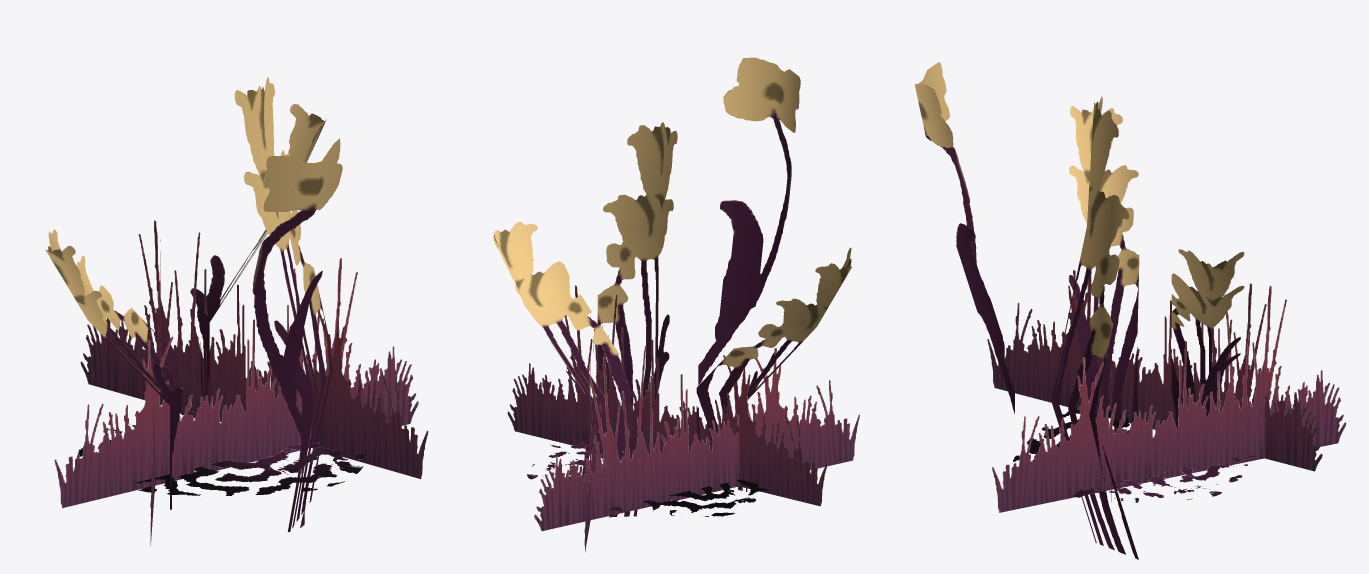
Rendered from Flowers.fbx.
The picture shows the model from 3 angles, left to right: view 1: azimuth 30°, elevation 25°; view 2: azimuth 150°, elevation 25°; view 3: azimuth 270°, elevation 25°; orthographic projection. The views are drawn at different scales.
Visible parts, largest first — view 1: Plane.006; view 2: Plane.006; view 3: Plane.006.
Boxes of the visible parts, x1,y1,x2,y2 form: Plane.006: (46,77,428,545); Plane.006: (493,57,859,551); Plane.006: (914,62,1346,559).
Size of the model in its own units: 402 by 489 by 414.
